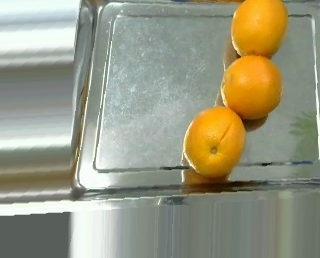Orange: (182, 106, 245, 178), (219, 54, 282, 118), (231, 1, 289, 56)
